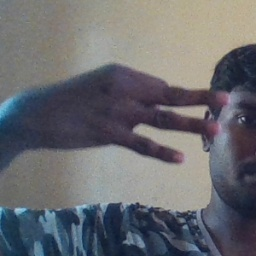K: (26, 61, 229, 168)
